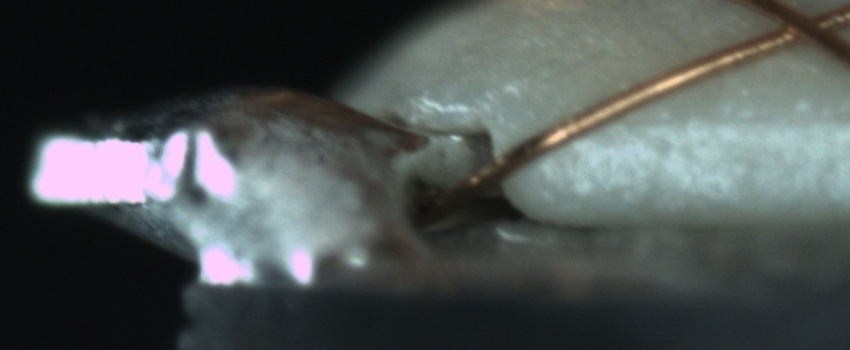CL: (755, 0, 846, 56)
DL: (615, 91, 850, 159)
